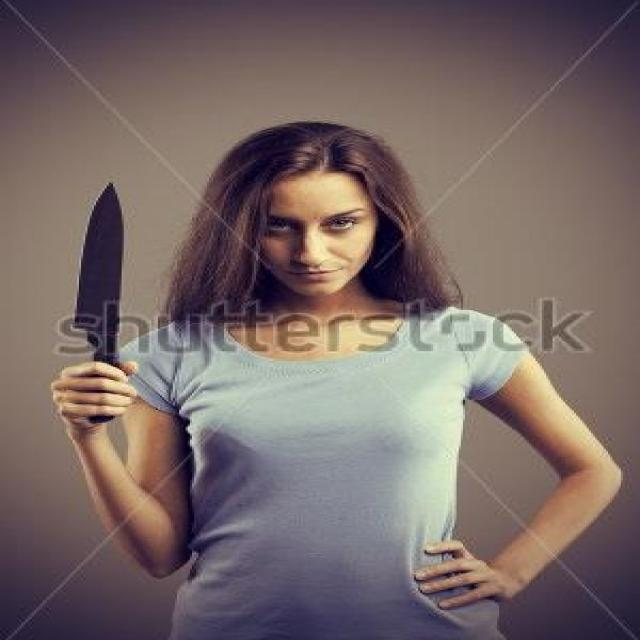faca: (43, 171, 144, 403)
